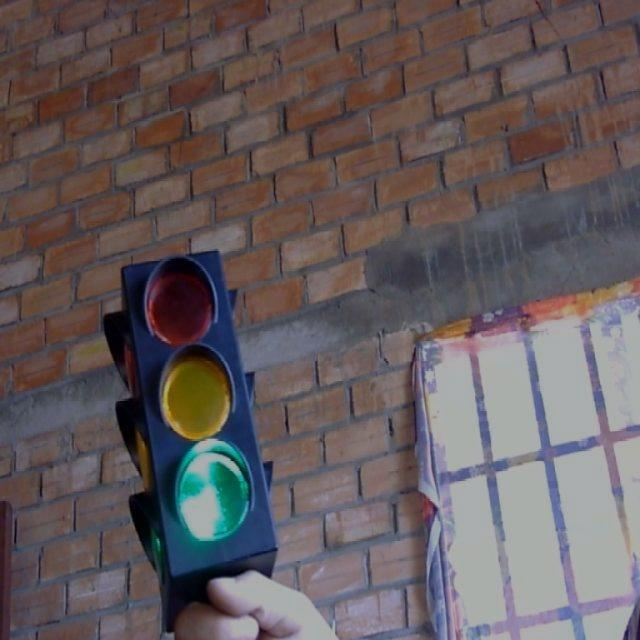Green: (94, 238, 284, 592)
